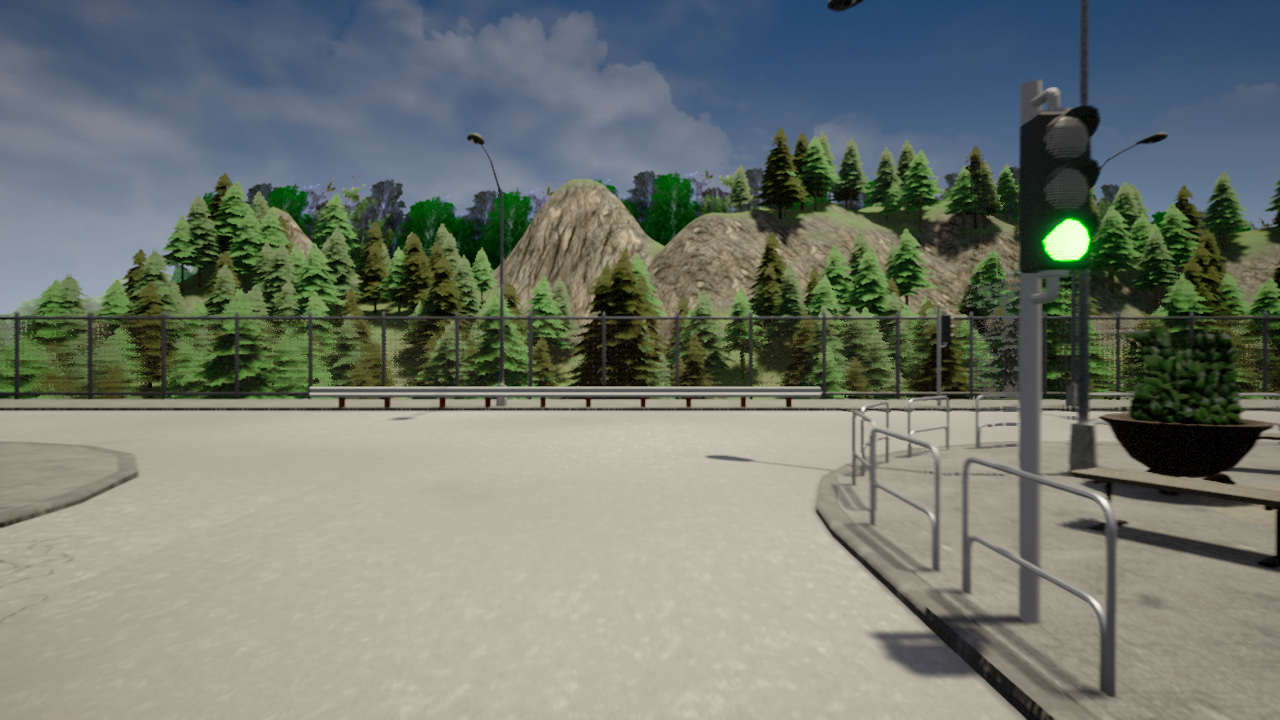green: (1026, 100, 1102, 276)
